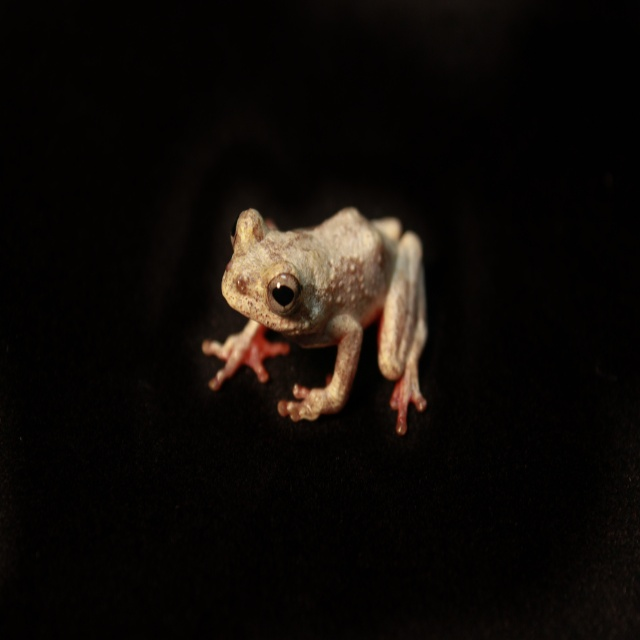Frog: (200, 205, 430, 438)
